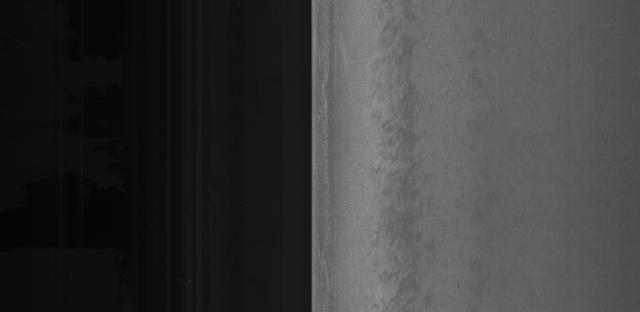silk_spot: (367, 111, 429, 191)
